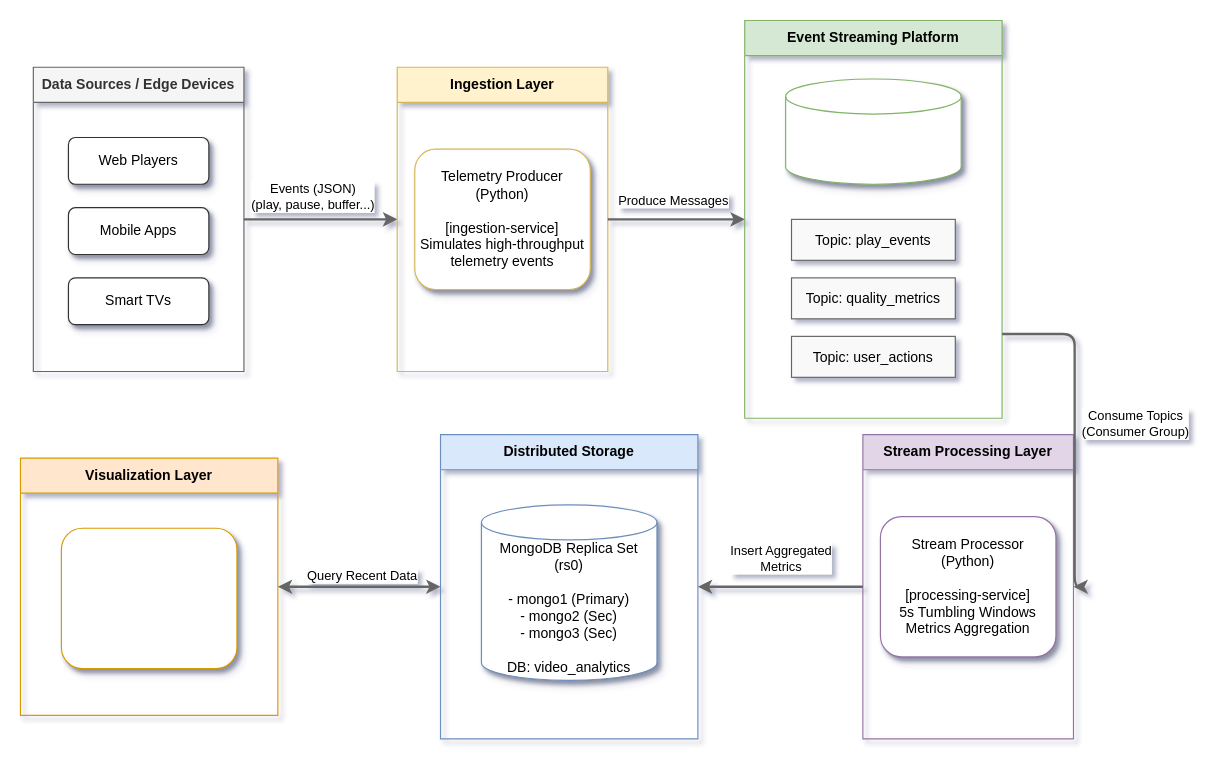
This 1216x766 diagram has some shape labels left out. Each missing label, with the centre of its shape:
Apache Kafka Cluster (Broker 1 & Broker 2) + Zookeeper: (x=874, y=132)
Interactive Dashboard (Streamlit + Plotly) [dashboard-service] Port: 8501: (x=150, y=599)
